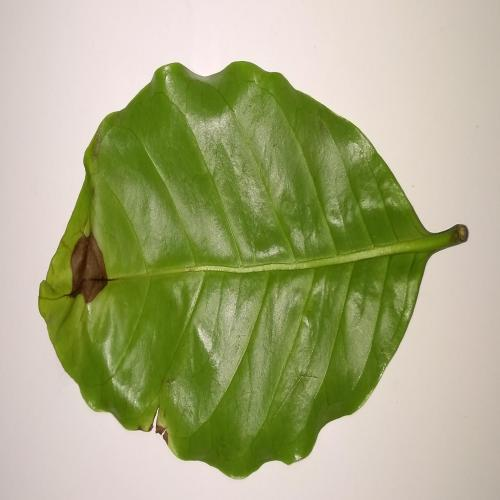miner: (69, 230, 108, 304)
